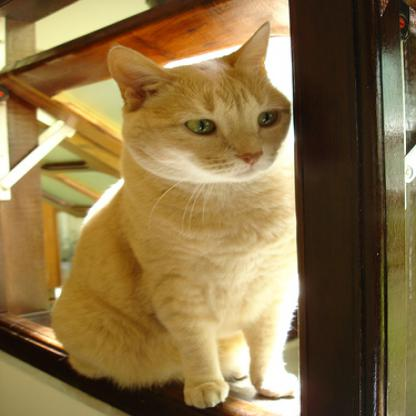cat: (46, 33, 320, 415)
